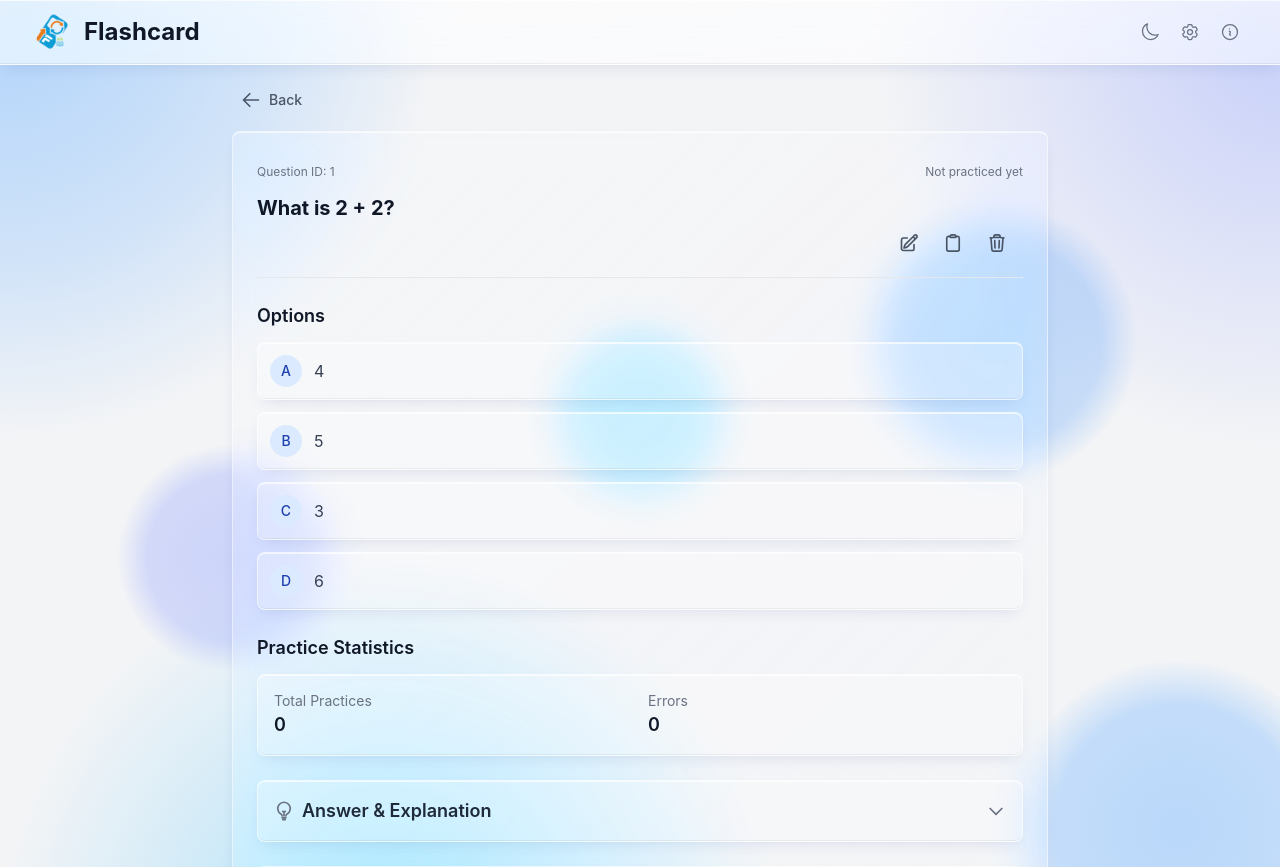
Test: QuestionDetailPage › refetches and displays the updated question after a successful edit
Check: the heading "What is 2 + 2?" is shown, box [257,196,395,220]
Click the button named "Edit question": (909, 242) [891,224,927,260]
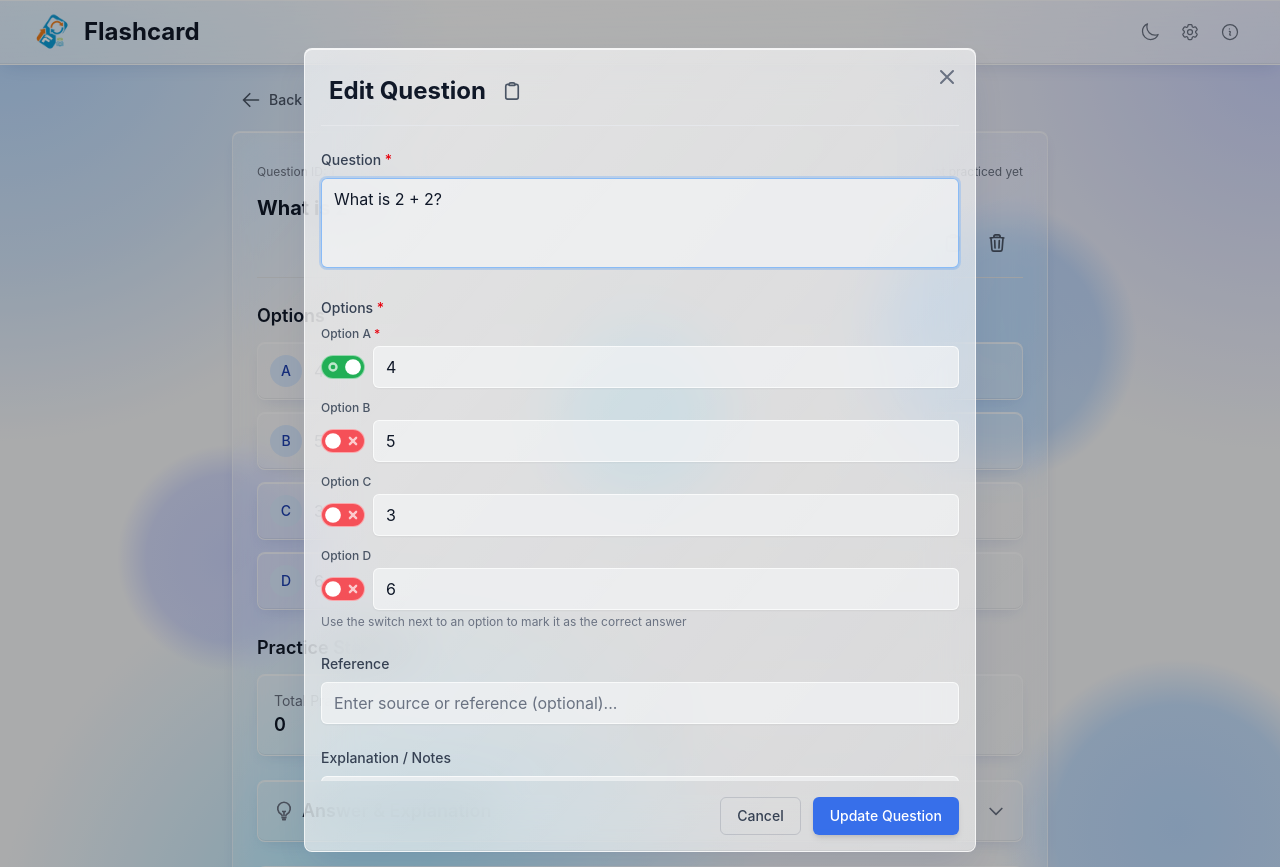
Check: the heading "Edit Question" is shown, box [329,75,486,107]
Click the button "Update Question": (886, 816) [813,797,959,835]
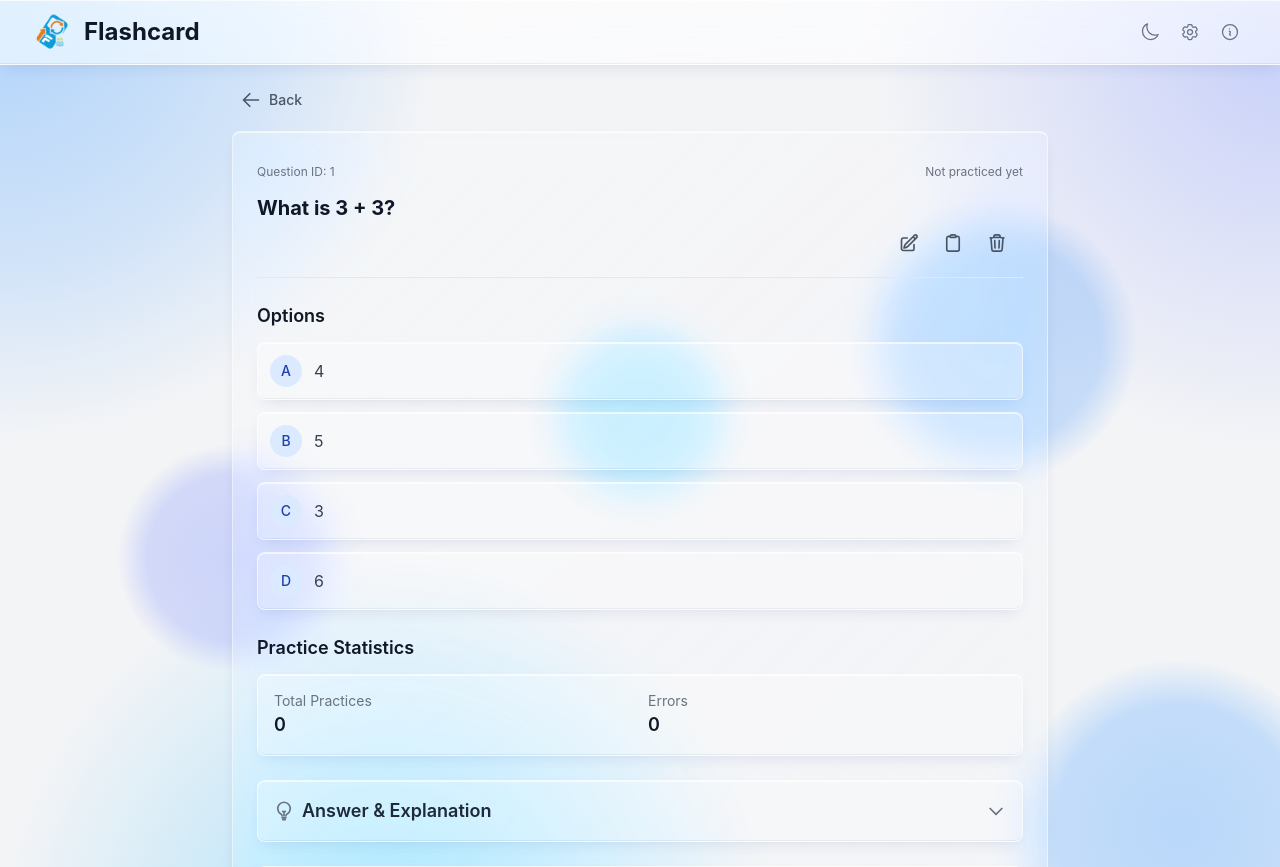
Check: the heading "What is 3 + 3?" is shown, box [257,196,395,220]
